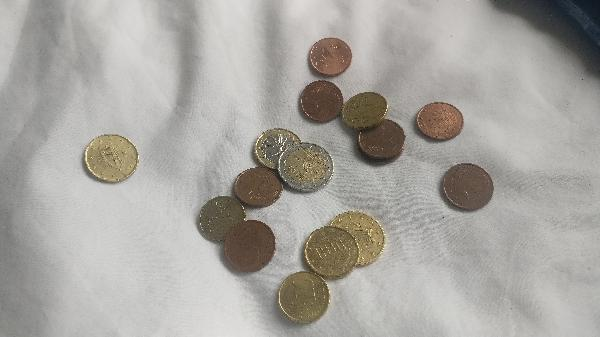Fifty Cent: (330, 213, 389, 267)
Five Cent: (223, 221, 276, 273), (446, 161, 495, 214), (415, 102, 464, 142), (236, 169, 285, 207), (359, 121, 406, 159), (300, 82, 342, 124), (309, 37, 353, 77)
One Euro: (257, 128, 302, 169)
Ten Cent: (275, 269, 330, 320), (197, 194, 249, 238), (341, 94, 390, 127)
Twenty Cent: (83, 133, 143, 183), (305, 226, 359, 276)
Two Euro: (281, 143, 336, 191)
